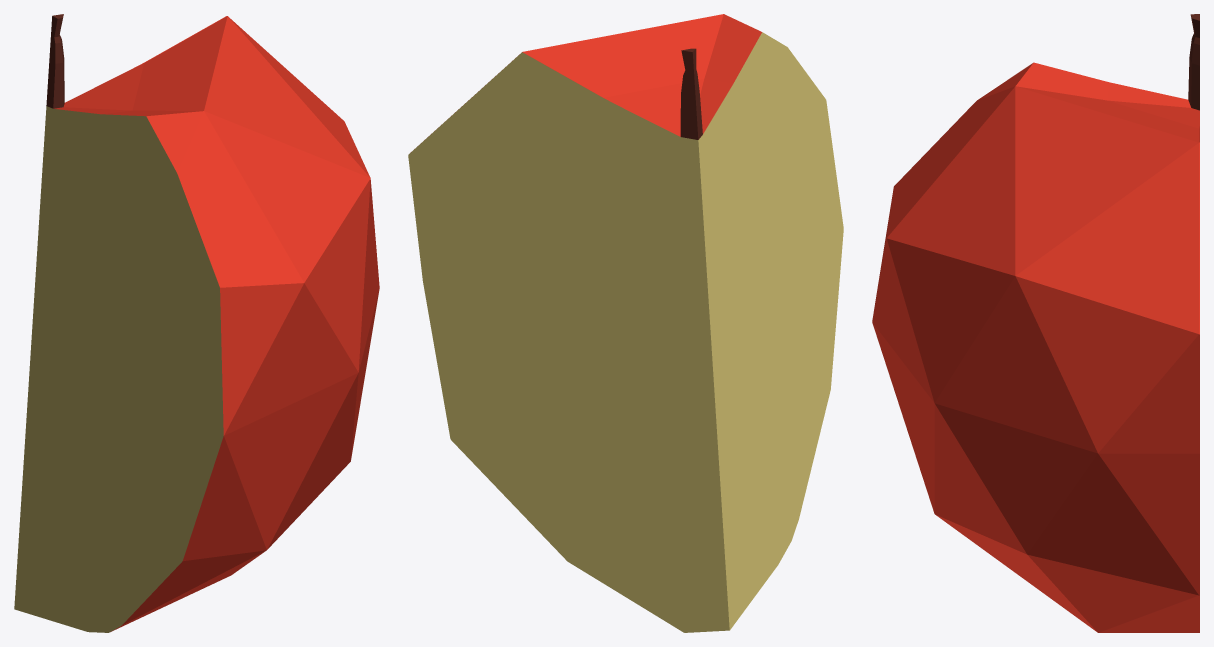
File: AppleQu3.fbx
3 views of the same model, side by side, from view 1: azimuth 30°, elevation 25°; view 2: azimuth 150°, elevation 25°; view 3: azimuth 270°, elevation 25° (orthographic). The views are drawn at different scales.
Parts seen in each view (by area): view 1: AppleQu3; view 2: AppleQu3; view 3: AppleQu3.
Part boxes in pixels (x1,y1,x2,y2): AppleQu3: (14,14,379,632); AppleQu3: (408,14,843,632); AppleQu3: (872,14,1199,632).
Size of the model in its own units: 117 by 203 by 100.
